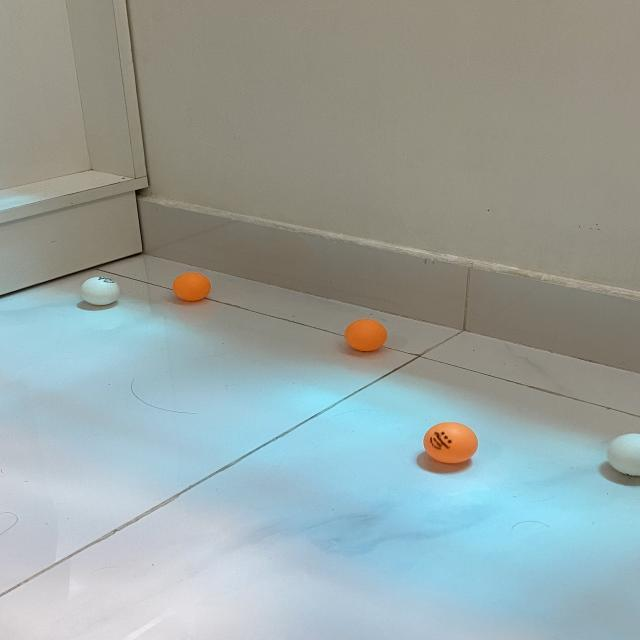ping-pong-ball: (423, 422, 479, 464), (607, 433, 640, 477), (346, 318, 388, 352), (82, 276, 122, 308), (174, 272, 214, 302)
